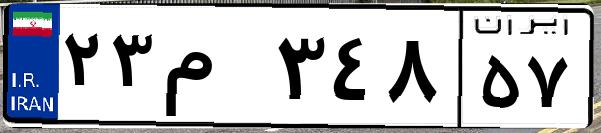2: (57, 26, 110, 100)
3: (270, 28, 330, 110), (110, 28, 158, 98)
4: (330, 28, 385, 110)
5: (475, 38, 525, 113)
7: (525, 38, 570, 115)
8: (385, 28, 445, 110)
م: (158, 20, 270, 120)
